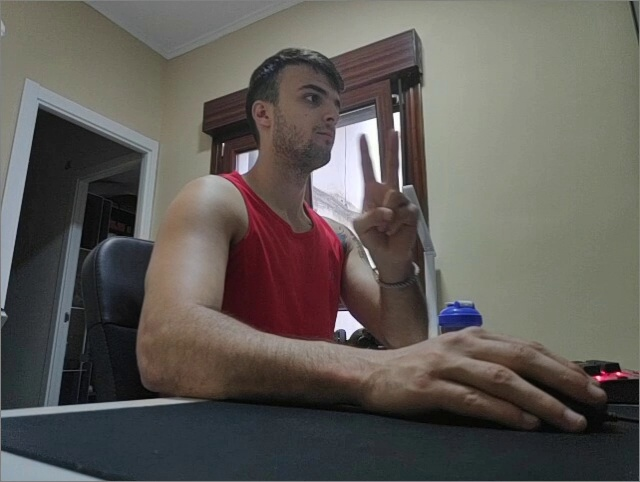Peace: (353, 126, 420, 260)
